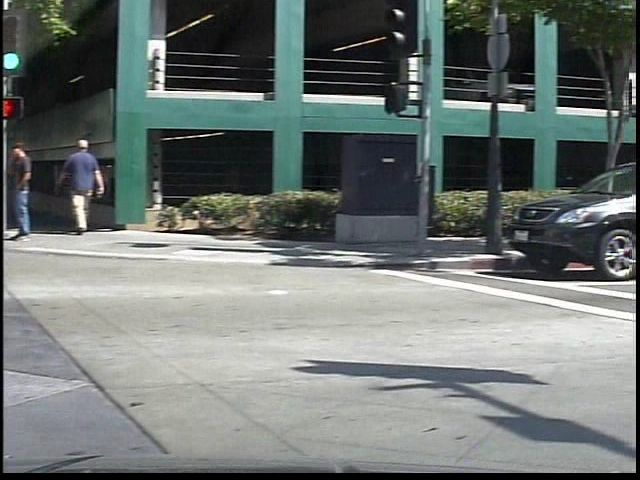person: (67, 135, 120, 239), (18, 134, 52, 246), (6, 142, 38, 234)
